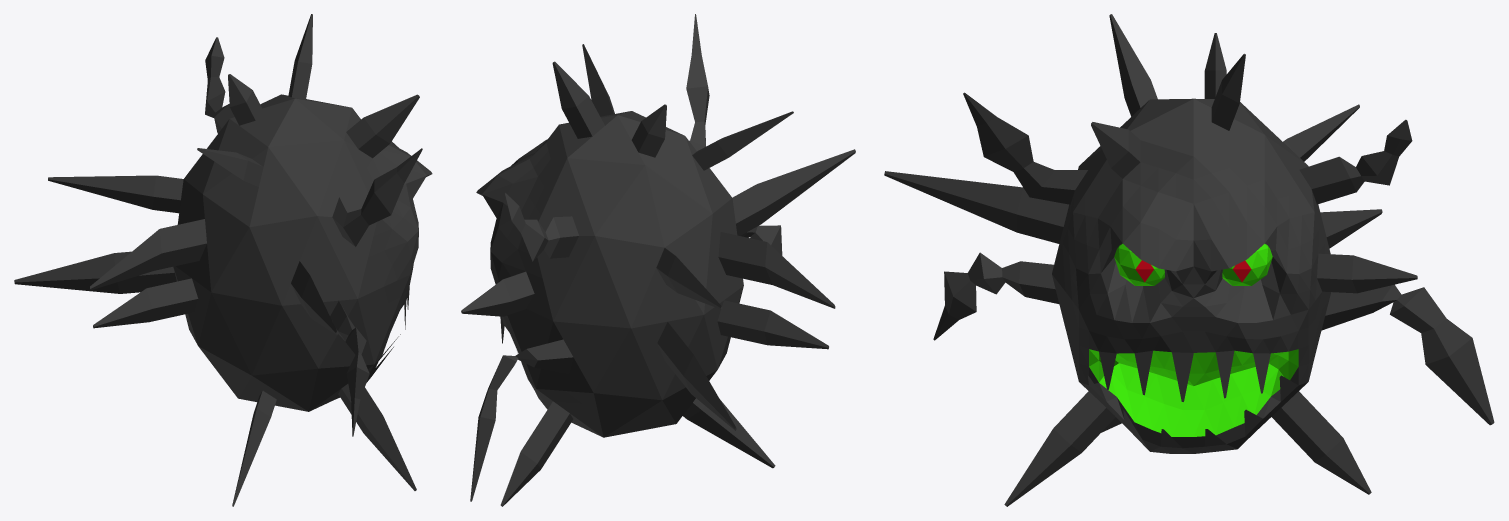
The model's file is Spitter monster ship.fbx.
3 views of the same model, side by side, from view 1: azimuth 30°, elevation 25°; view 2: azimuth 150°, elevation 25°; view 3: azimuth 270°, elevation 25° (orthographic). The views are drawn at different scales.
Visible parts, largest first — view 1: Icosphere; view 2: Icosphere; view 3: Icosphere.
Part boxes in pixels (left/top/right/bottom): Icosphere: left=14, top=14, right=432, bottom=506; Icosphere: left=461, top=14, right=855, bottom=506; Icosphere: left=884, top=14, right=1494, bottom=506.
Bounding box in the file's own units: 1405 × 1668 × 1992.
